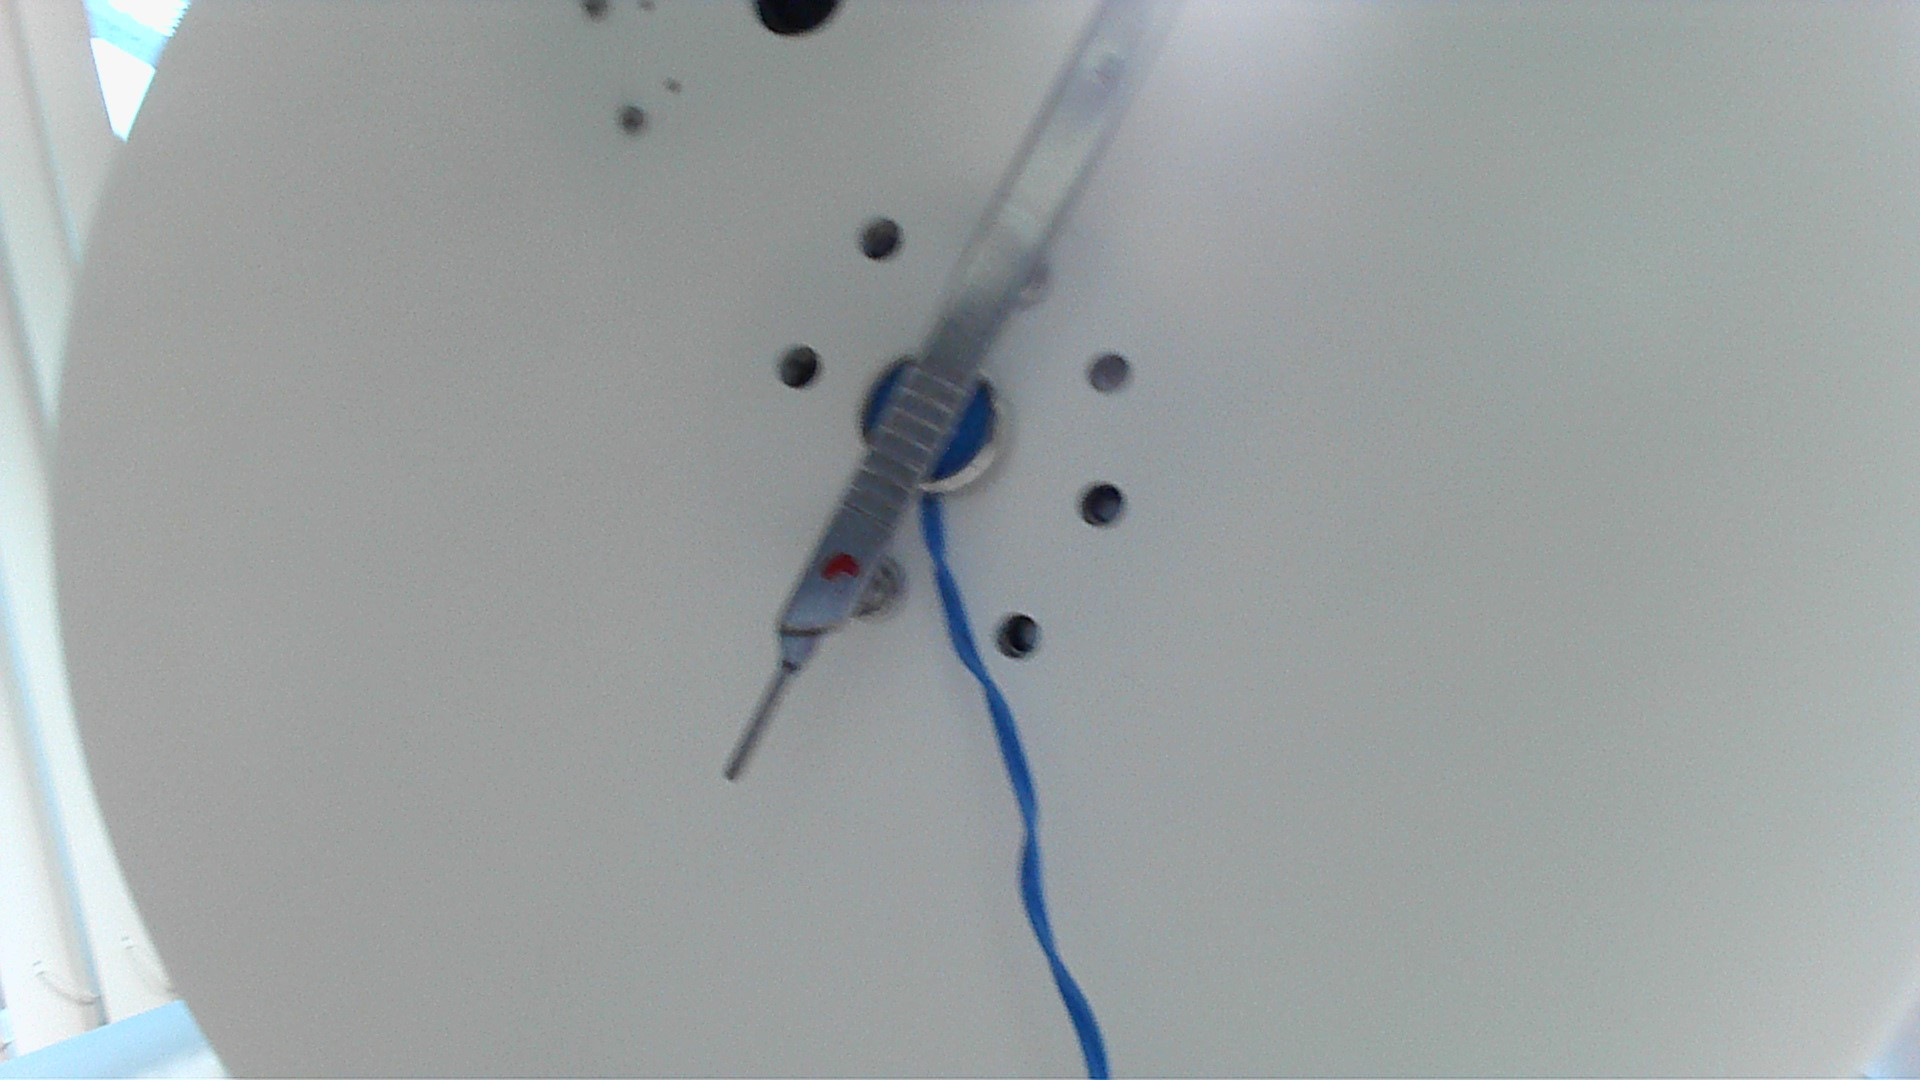Stain: (818, 545, 870, 584)
